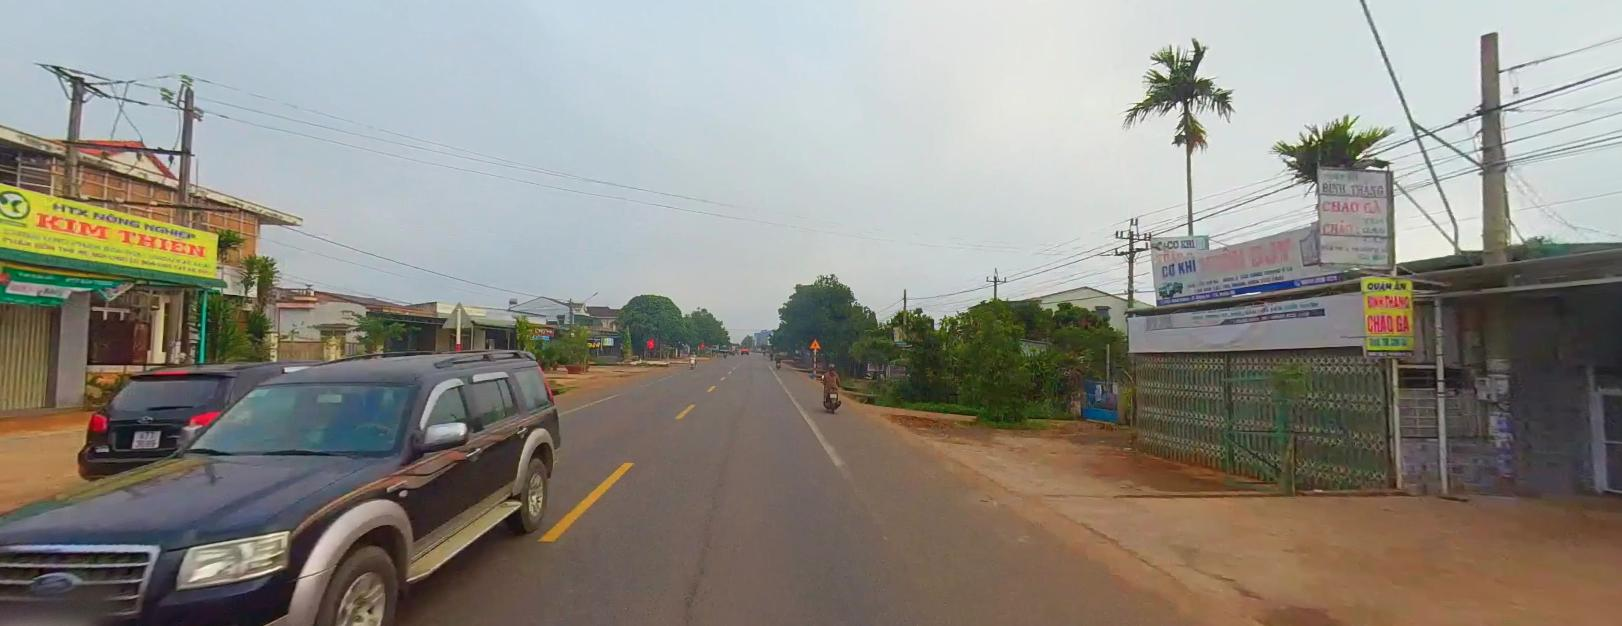Nguy hiem: (808, 337, 821, 348)
